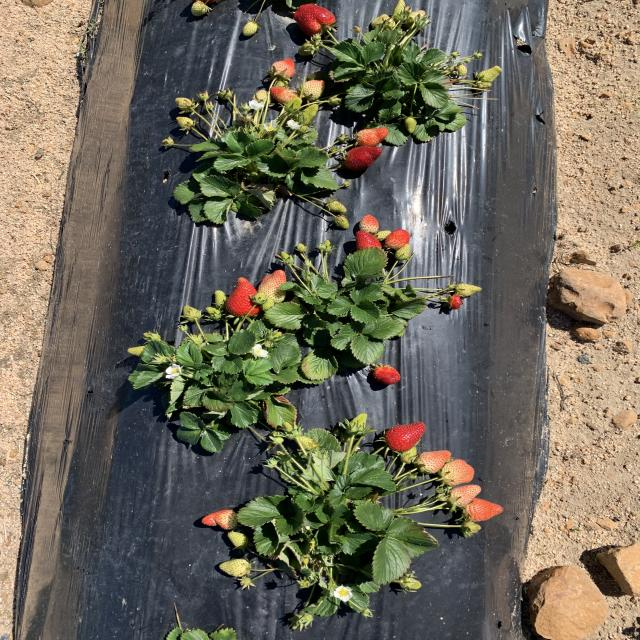unripe: (224, 278, 266, 318), (381, 421, 427, 454), (293, 3, 336, 32), (341, 145, 384, 171), (353, 230, 384, 262), (384, 228, 410, 252), (375, 367, 400, 388)
